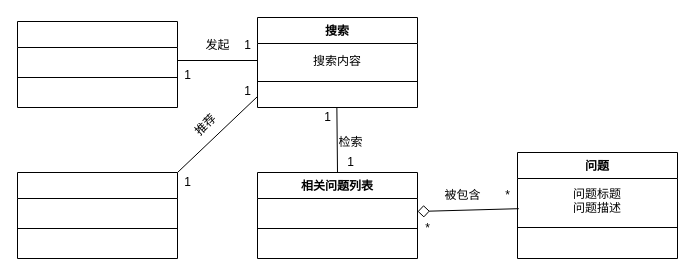
Image size: 695x279. Some labels were removed from this diagram. Here are the shapes that lost their labels. From the top down, the centre of each, then its label:
the point at 97,64: 用户
the point at 97,215: 推荐榜单
